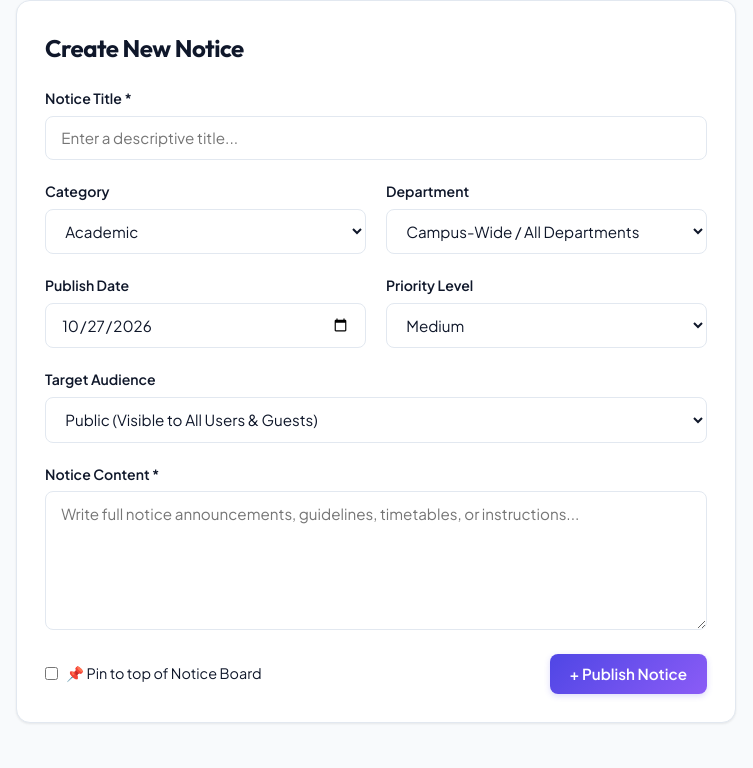
Test: AddNotice Component › successfully submits notice and displays success message
Type "Annual Sports Day" into the field labelled "Notice Title *" at (376, 138), box [45, 116, 707, 160]
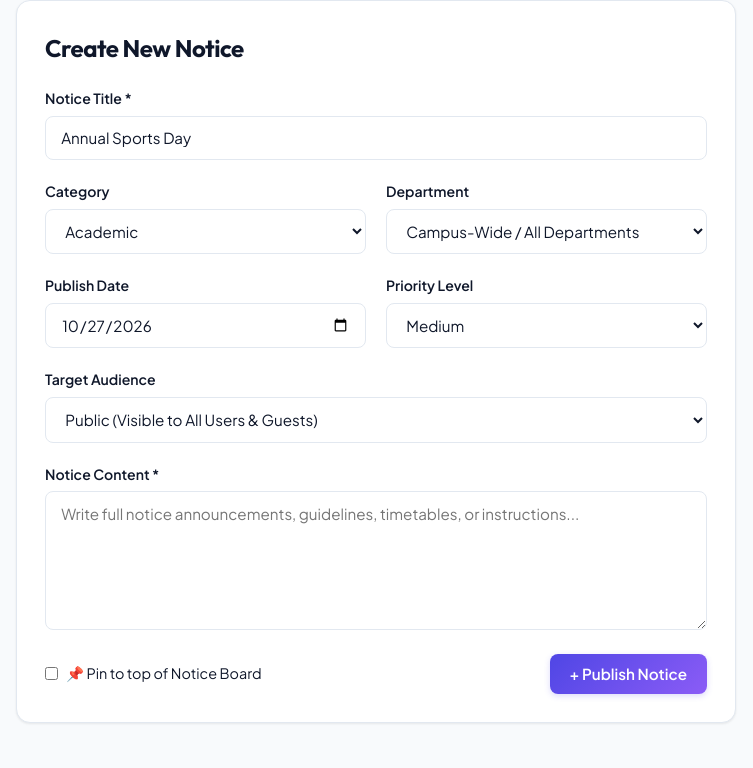
Replace the text in the text box labelled "Notice Content *" with "All track events will start at 8 AM." at (376, 561), box [45, 491, 707, 630]
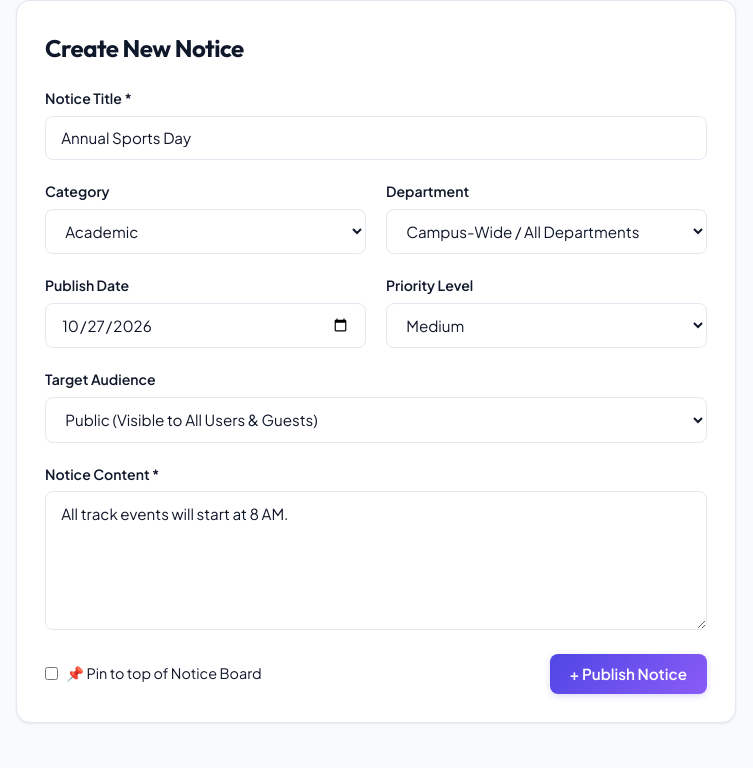
Type "2026-09-01" into the date field labelled "Publish Date" at (206, 326), box [45, 303, 366, 348]
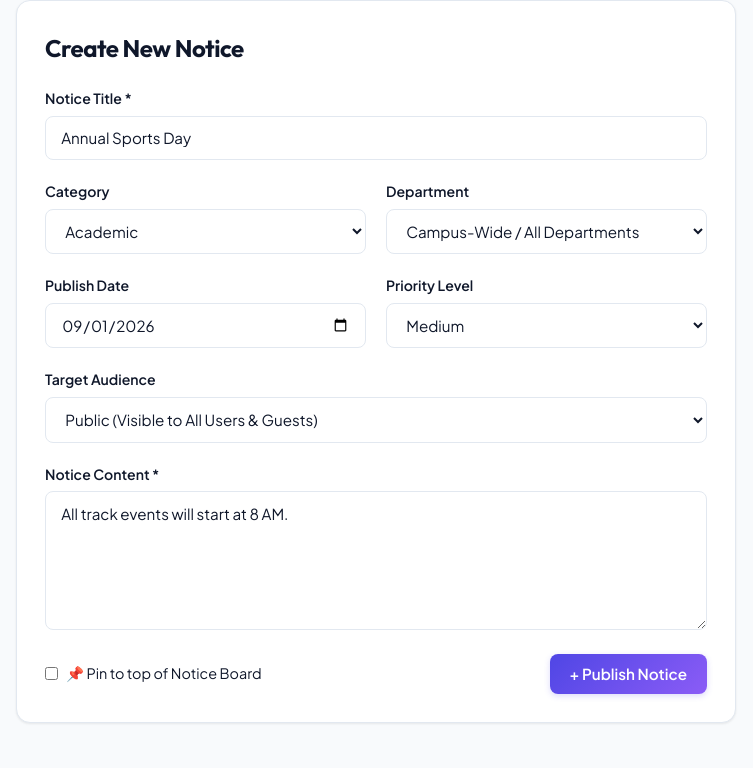
Select "Academic" in the dropdown labelled "Category" at (206, 231), box [45, 209, 366, 254]
Click the button "+ Publish Notice" at (628, 674), box [550, 654, 707, 694]
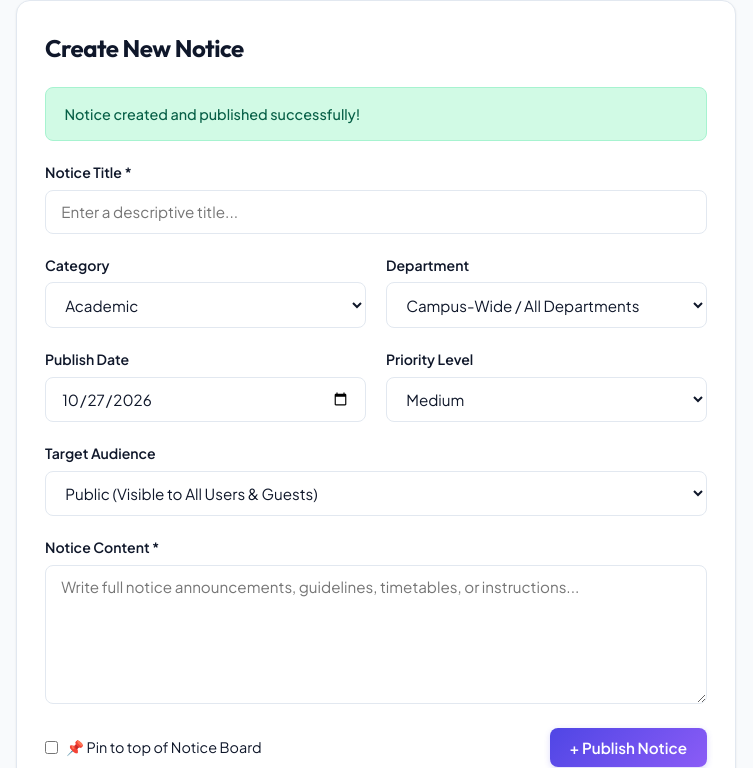
Now the text "Notice created and published successfully!" is shown, box [45, 87, 707, 141]
